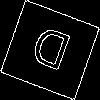D: (25, 25, 74, 81)
